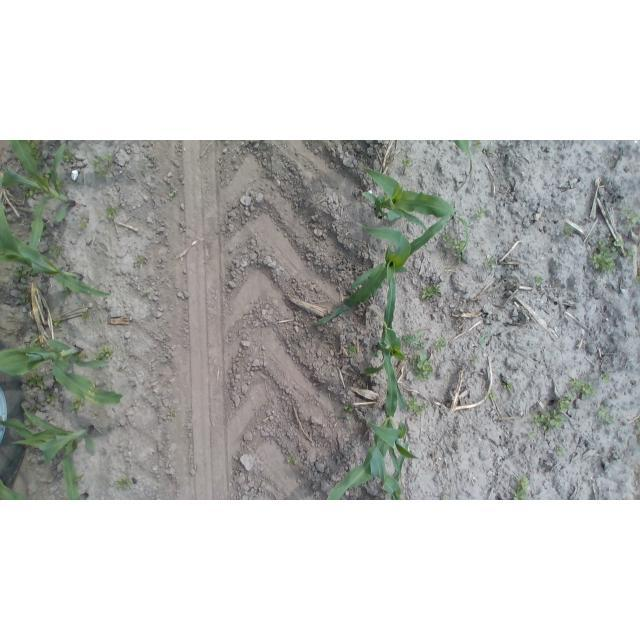Maize: (312, 212, 460, 327), (325, 356, 420, 501), (0, 196, 116, 298), (0, 404, 98, 501), (358, 165, 469, 247), (3, 140, 78, 260), (0, 339, 126, 408), (367, 262, 405, 429), (454, 141, 475, 192), (1, 476, 34, 500)
Weeds: (590, 237, 622, 275), (532, 408, 567, 429), (440, 229, 466, 257), (410, 351, 434, 381), (92, 153, 116, 178), (568, 378, 597, 398), (512, 477, 531, 500), (27, 142, 44, 167), (403, 332, 428, 349), (22, 372, 46, 389), (408, 396, 429, 415), (596, 405, 616, 423), (421, 284, 442, 301), (115, 474, 136, 490), (92, 347, 114, 362), (14, 265, 31, 284), (624, 209, 639, 229), (105, 204, 120, 221), (21, 185, 39, 199), (69, 397, 83, 415), (557, 395, 572, 411), (48, 243, 63, 258), (433, 337, 449, 351), (484, 255, 497, 272), (133, 253, 148, 267), (344, 402, 355, 421), (62, 148, 75, 164), (478, 332, 491, 345), (599, 372, 613, 384), (562, 224, 575, 236), (46, 392, 58, 405), (39, 168, 51, 180), (623, 248, 635, 260), (502, 380, 514, 392), (475, 207, 487, 218), (347, 343, 358, 355), (78, 218, 89, 230), (52, 317, 64, 328), (75, 472, 86, 484), (167, 408, 178, 420), (401, 156, 414, 166), (533, 274, 543, 286), (170, 185, 179, 198), (487, 391, 497, 402), (473, 141, 483, 151), (82, 311, 91, 322), (286, 456, 297, 465), (527, 430, 538, 439), (42, 225, 50, 236), (80, 350, 90, 358), (556, 447, 565, 455), (142, 289, 151, 297), (370, 349, 378, 358), (472, 355, 479, 365), (445, 267, 454, 274), (442, 493, 451, 500), (93, 409, 100, 416), (27, 222, 32, 230)
